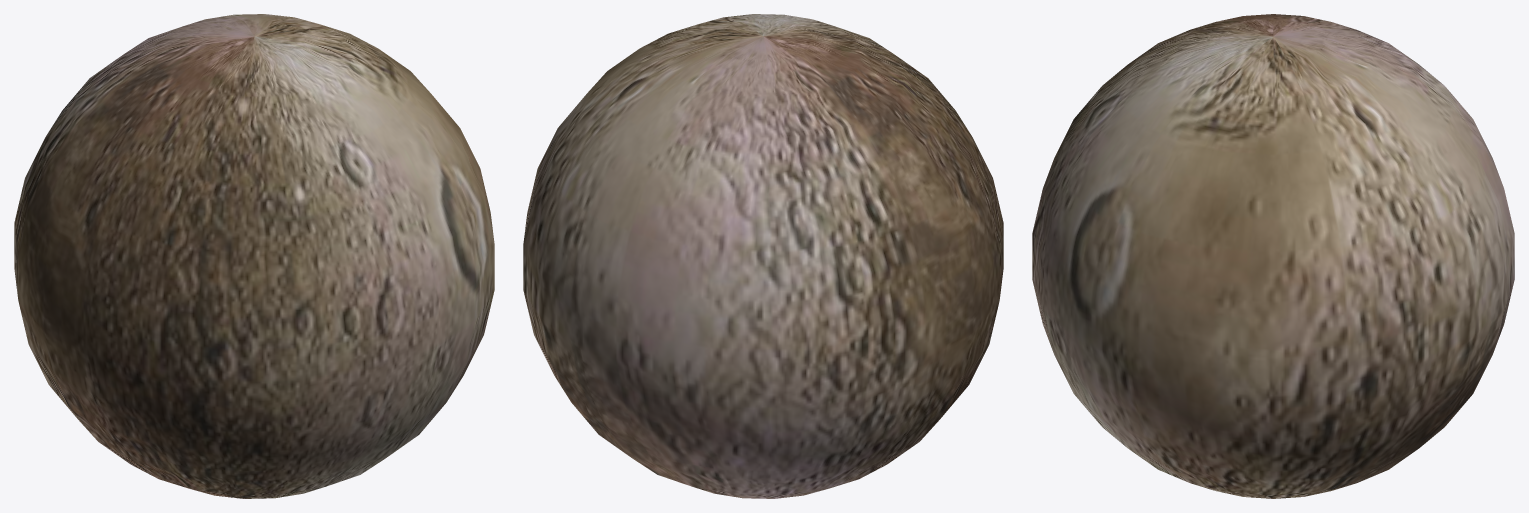
Rendered from AsteroidI.obj.
3 renders of one model, left to right at view 1: azimuth 30°, elevation 25°; view 2: azimuth 150°, elevation 25°; view 3: azimuth 270°, elevation 25°, orthographic.
Bounding box in the file's own units: 1.99 × 2 × 1.99.
Materials: 1 (1 with a texture image).
